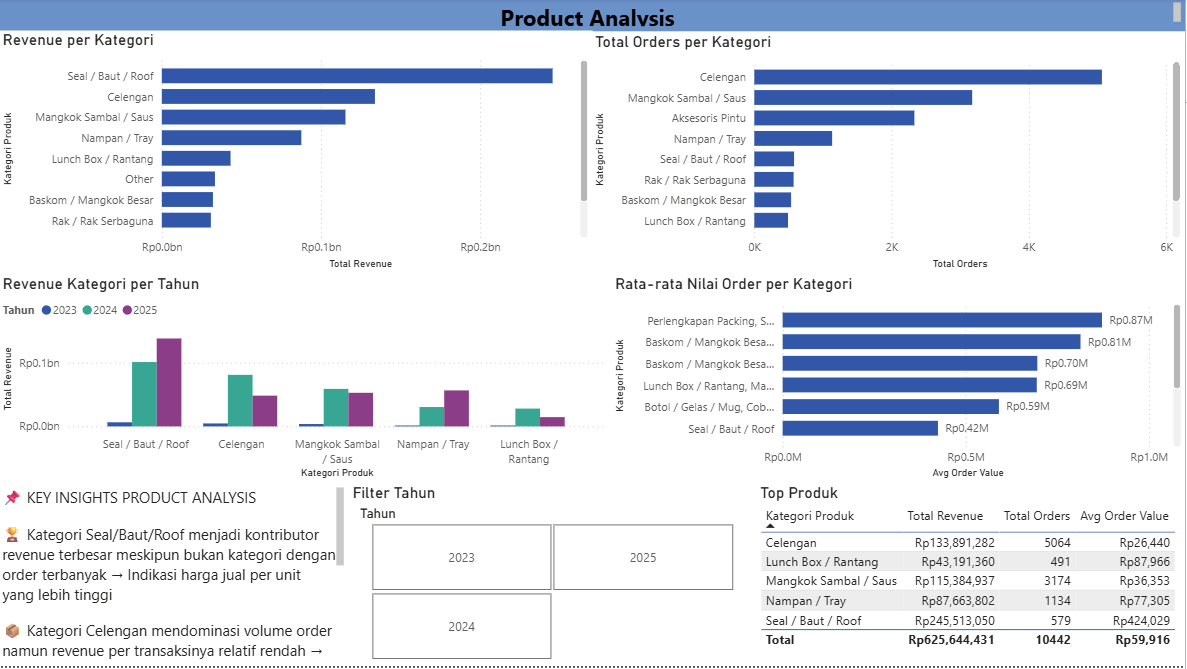

This screenshot's page, from the dashboard's own definition file:
{"tool":"powerbi","page":{"name":"Product Analysis","canvas":[1280,720],"ordinal":1},"visuals":[{"type":"textbox","box":[0,0,1280.3,35.7],"z":0},{"type":"clusteredBarChart","title":"Revenue per Kategori","fields":{"Category":["Dim_Produk.Kategori Produk"],"Y":["_Measures.Total Revenue"]},"box":[0,35.7,640.8,262.1],"z":1000},{"type":"clusteredBarChart","title":"Total Orders per Kategori ","fields":{"Category":["Dim_Produk.Kategori Produk"],"Y":["_Measures.Total Orders"]},"box":[639.5,37,640.8,260.7],"z":2000},{"type":"clusteredColumnChart","title":"Revenue Kategori per Tahun","fields":{"Category":["Dim_Produk.Kategori Produk"],"Y":["_Measures.Total Revenue"],"Series":["Dim_Waktu.Tahun"]},"box":[0,297.8,660.4,225.1],"z":3000},{"type":"slicer","title":"Filter Tahun","fields":{"Values":["Dim_Waktu.Tahun"]},"box":[377.4,522.8,439.1,196.2],"z":4000},{"type":"tableEx","title":"Top Produk","fields":{"Values":["Dim_Produk.Kategori Produk","_Measures.Total Revenue","_Measures.Total Orders","_Measures.Avg Order Value"]},"box":[816.5,522.8,463.8,197.6],"z":5000},{"type":"textbox","box":[0,522.5,377.5,197.2],"z":6000},{"type":"clusteredBarChart","title":"Rata-rata Nilai Order per Kategori","fields":{"Category":["Dim_Produk.Kategori Produk"],"Y":["_Measures.Avg Order Value"]},"box":[660,298,620,225],"z":7000}]}

Visuals, with their boxes in screenshot pixels (x1, y1, x2, y2), scaled from the page's 1280x720 canvas onto the 1187x669 screenshot:
textbox: bbox(0, 0, 1186, 33)
"Revenue per Kategori" clusteredBarChart: bbox(0, 33, 594, 277)
"Total Orders per Kategori " clusteredBarChart: bbox(593, 34, 1186, 277)
"Revenue Kategori per Tahun" clusteredColumnChart: bbox(0, 277, 612, 486)
"Filter Tahun" slicer: bbox(350, 486, 757, 668)
"Top Produk" tableEx: bbox(757, 486, 1186, 668)
textbox: bbox(0, 485, 350, 668)
"Rata-rata Nilai Order per Kategori" clusteredBarChart: bbox(612, 277, 1186, 486)
